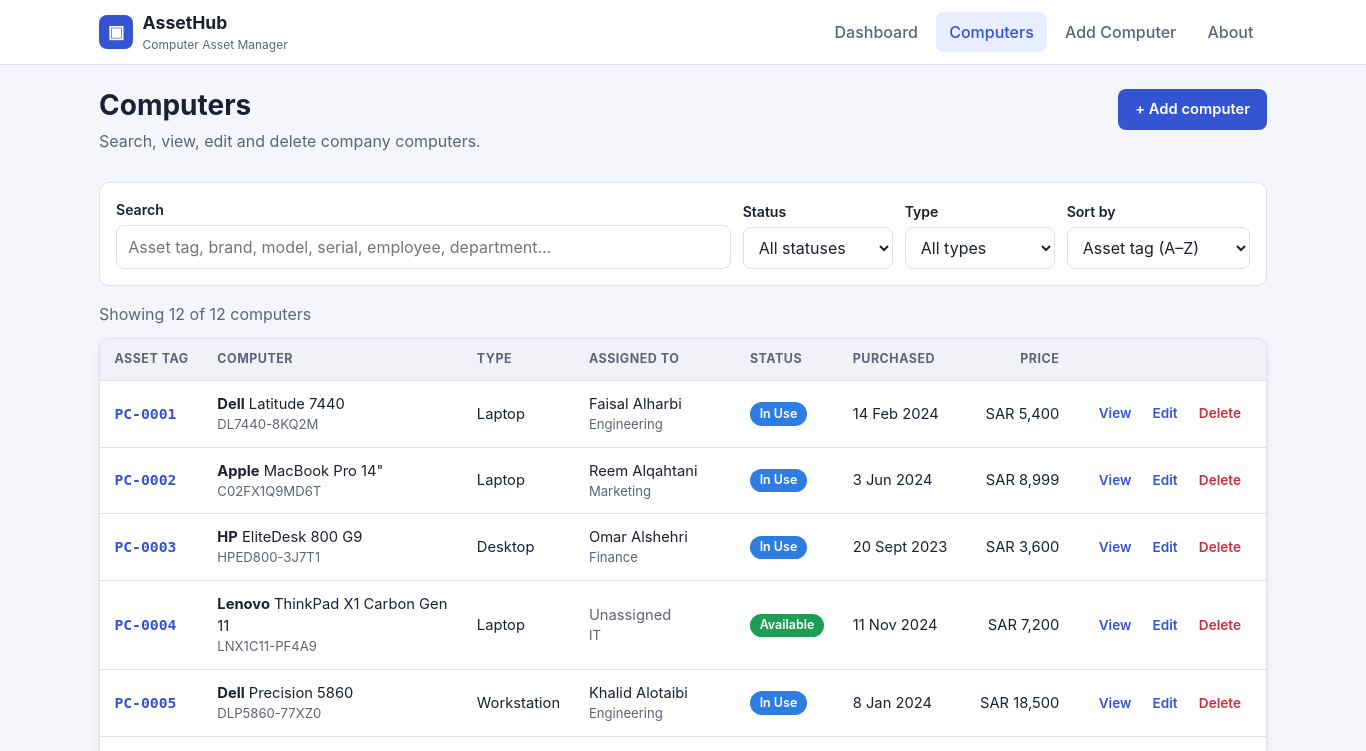
Scenario: display and search › filters by status and can clear filters
Step 1. Select "Retired" in the dropdown labelled "Status" → (818, 248), box left=743, top=227, right=893, bottom=269
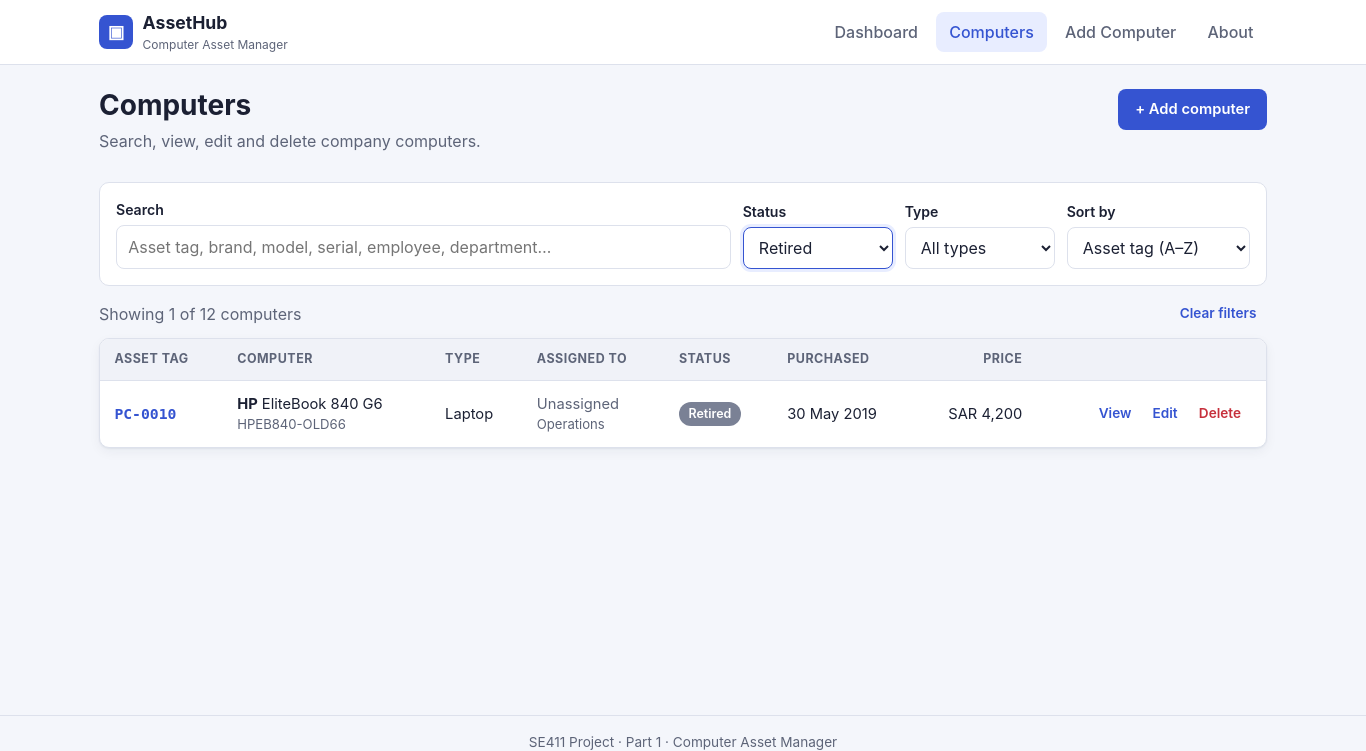
Result: the text "Showing 1 of 12 computers" is shown at left=99, top=302, right=302, bottom=326
Step 2. Click the button "Clear filters" → (1218, 314), box left=1169, top=298, right=1267, bottom=330
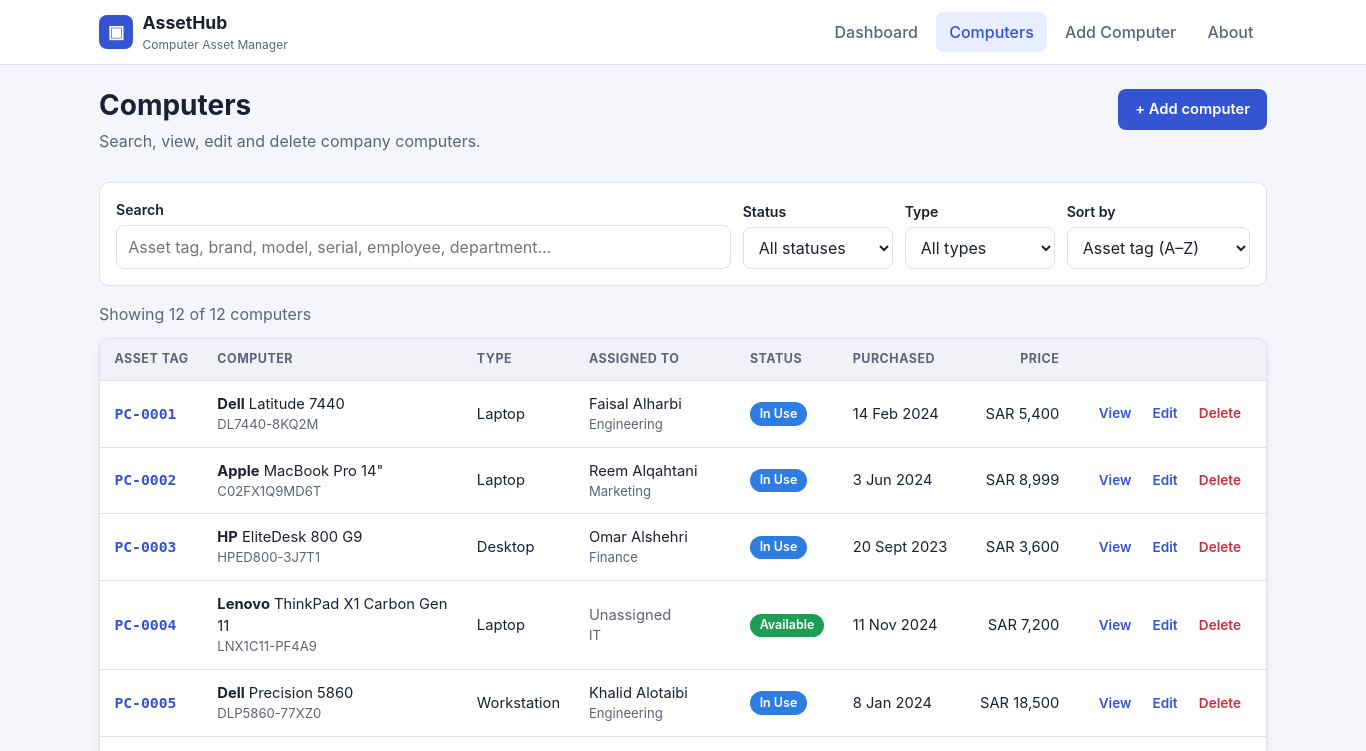
Result: the text "Showing 12 of 12 computers" is shown at left=99, top=302, right=311, bottom=326
